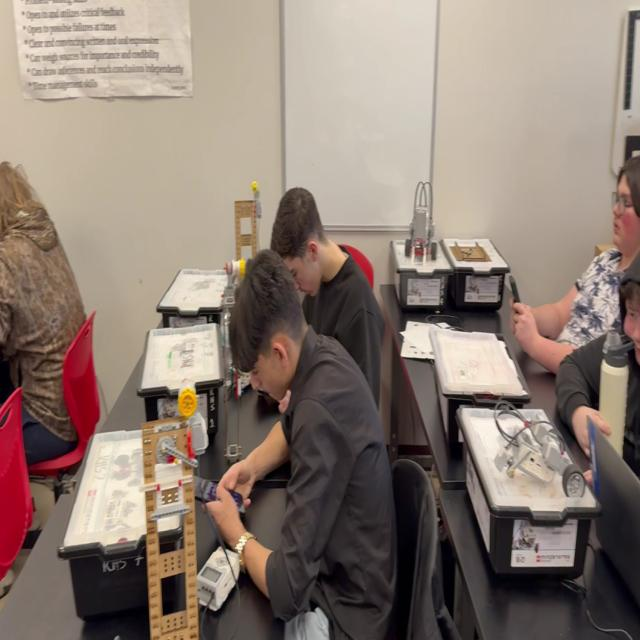pen: (186, 474, 244, 514), (509, 274, 524, 328), (258, 387, 282, 406)
